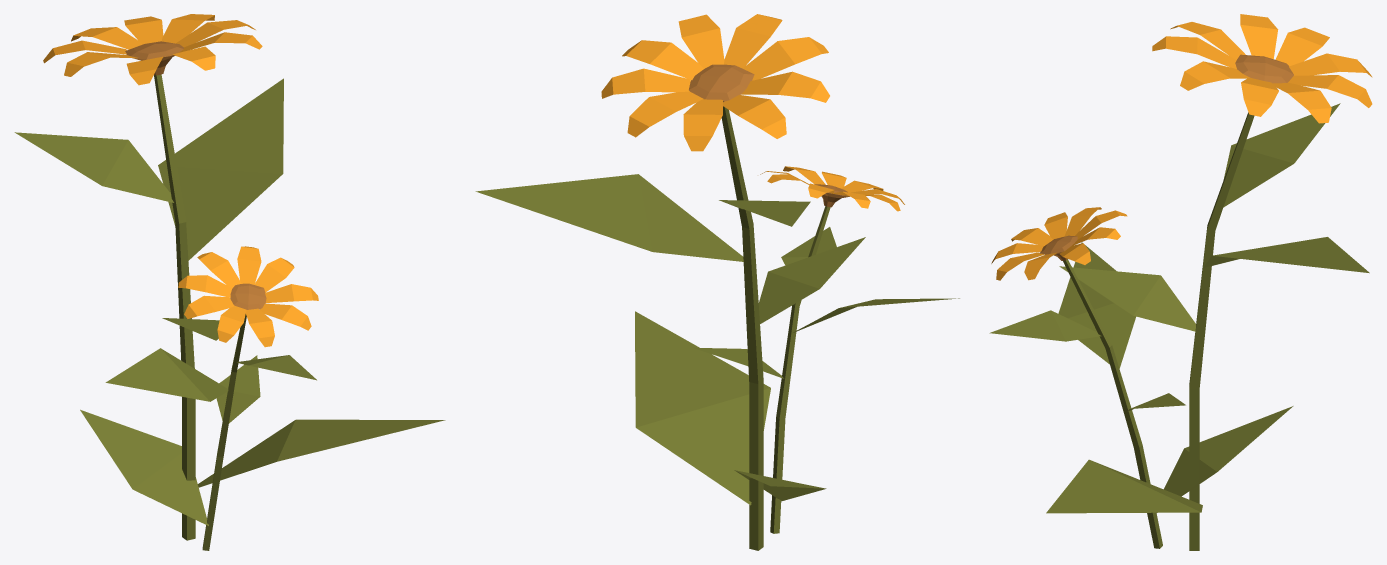
The model's file is Flower_6.fbx.
3 views of the same model, side by side, from view 1: azimuth 30°, elevation 25°; view 2: azimuth 150°, elevation 25°; view 3: azimuth 270°, elevation 25° (orthographic). The views are drawn at different scales.
Visible parts, largest first — view 1: Flower_6; view 2: Flower_6; view 3: Flower_6.
Part boxes in pixels (x1,y1,x2,y2): Flower_6: (14,14,445,550); Flower_6: (475,14,959,550); Flower_6: (989,14,1372,550).
Size of the model in its own units: 25.32 by 36.53 by 25.05.
